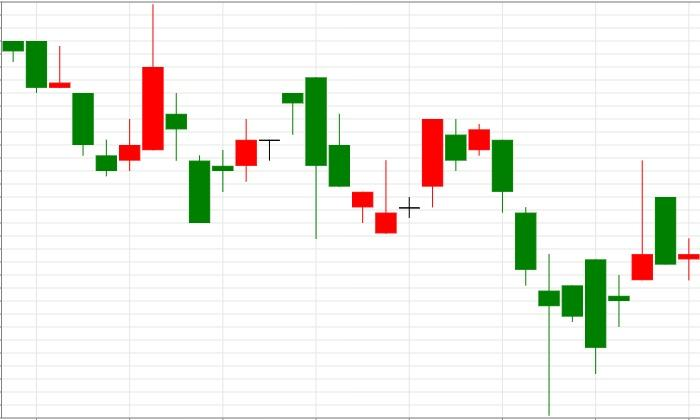inverse_hammer_rise: (283, 76, 397, 239)
